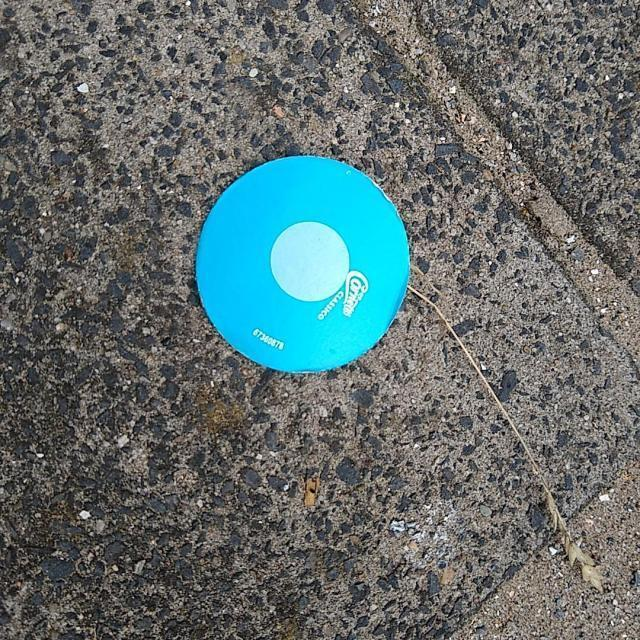Paper: (191, 150, 412, 377)
